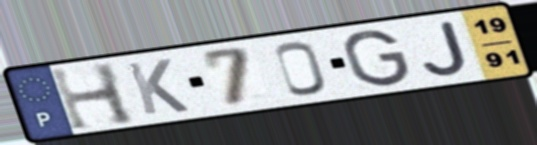0: (273, 39, 329, 98)
7: (199, 44, 261, 110)
G: (340, 28, 413, 89)
H: (46, 60, 140, 133)
J: (419, 18, 472, 78)
K: (123, 57, 193, 117)
